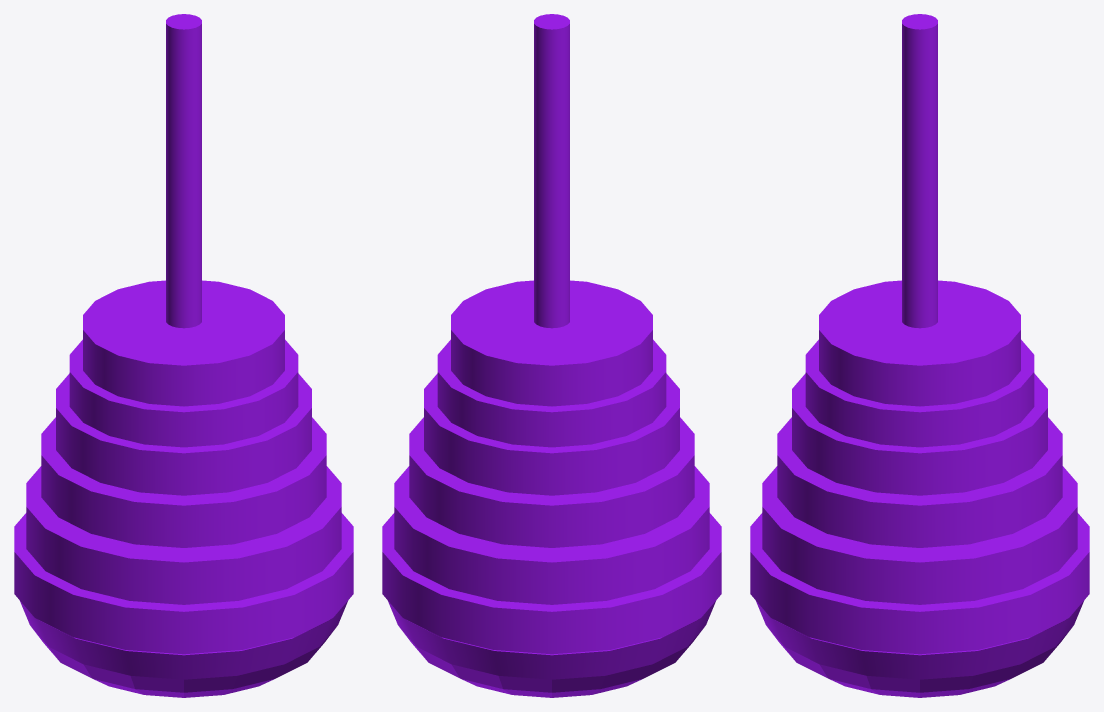
Rendered from PileUp3Gear.fbx.
3 views of the same model, side by side, from view 1: azimuth 30°, elevation 25°; view 2: azimuth 150°, elevation 25°; view 3: azimuth 270°, elevation 25° (orthographic).
Parts seen in each view (by area): view 1: Cylinder252, Cylinder248, Cylinder247, Cylinder249, Cylinder250, Cylinder253, Cylinder255, Cylinder251; view 2: Cylinder252, Cylinder248, Cylinder247, Cylinder249, Cylinder250, Cylinder253, Cylinder255, Cylinder251; view 3: Cylinder252, Cylinder248, Cylinder247, Cylinder249, Cylinder250, Cylinder253, Cylinder255, Cylinder251.
Boxes of the visible parts, <box> form: Cylinder252: <box>83,280,284,406</box>; Cylinder248: <box>26,466,341,604</box>; Cylinder247: <box>14,513,353,654</box>; Cylinder249: <box>41,417,326,547</box>; Cylinder250: <box>56,373,311,495</box>; Cylinder253: <box>19,600,348,697</box>; Cylinder255: <box>166,14,201,328</box>; Cylinder251: <box>69,339,298,447</box>; Cylinder252: <box>451,280,652,406</box>; Cylinder248: <box>394,466,709,604</box>; Cylinder247: <box>382,513,721,654</box>; Cylinder249: <box>409,417,694,547</box>; Cylinder250: <box>424,373,679,495</box>; Cylinder253: <box>387,600,716,697</box>; Cylinder255: <box>534,14,569,328</box>; Cylinder251: <box>437,339,666,447</box>; Cylinder252: <box>819,280,1020,406</box>; Cylinder248: <box>762,466,1077,604</box>; Cylinder247: <box>750,513,1089,654</box>; Cylinder249: <box>777,417,1062,547</box>; Cylinder250: <box>792,373,1047,495</box>; Cylinder253: <box>755,600,1084,697</box>; Cylinder255: <box>902,14,937,328</box>; Cylinder251: <box>805,339,1034,447</box>.
Bounding box in the file's own units: 231 × 464 × 228.
